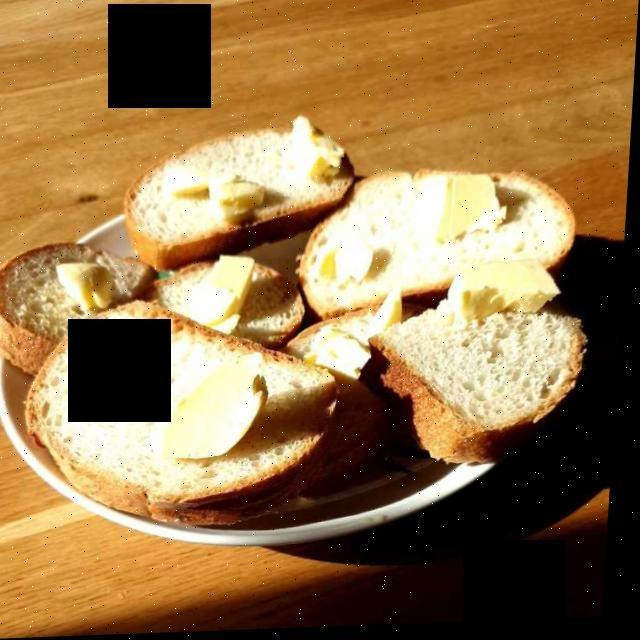bread: (2, 130, 582, 517)
butter: (40, 119, 563, 481)
